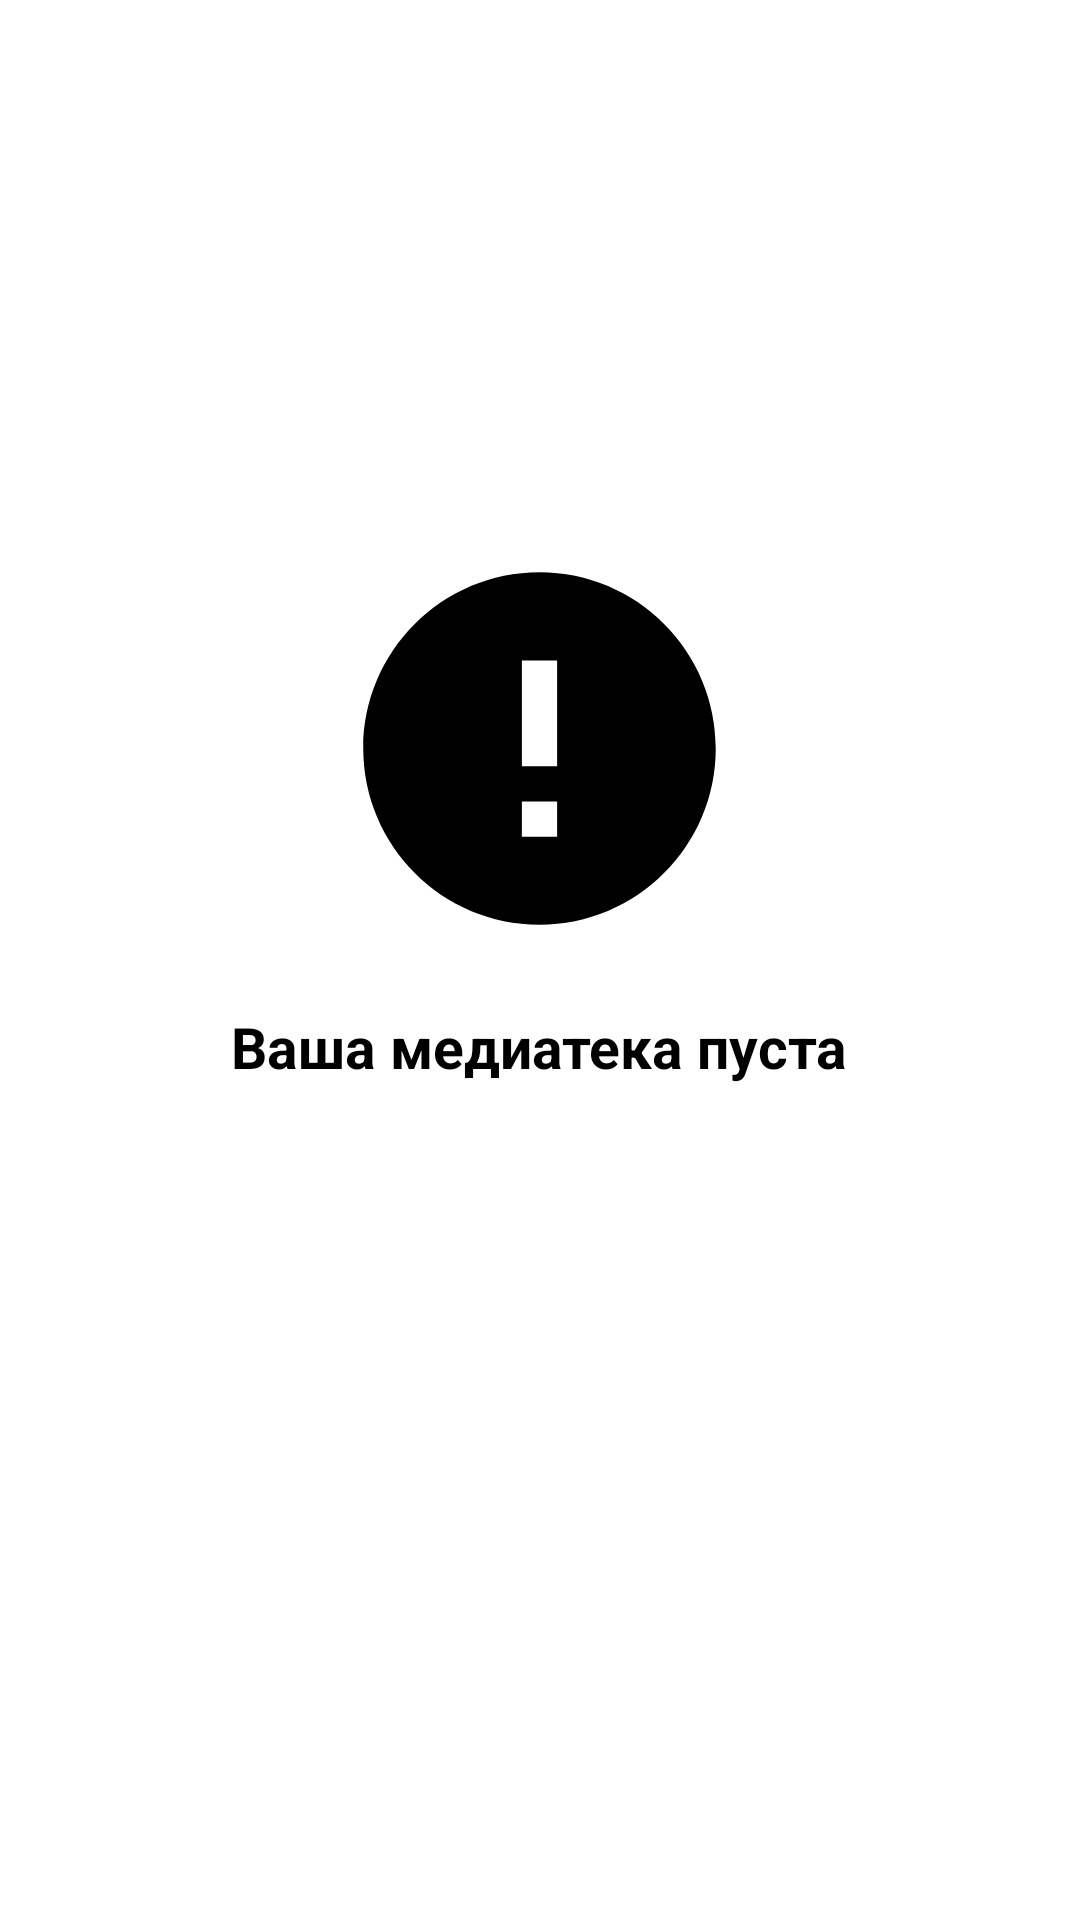

Named icons in this screenshot (1080px×1920px) and their bounding boxes, (x1, y1, x2, y2):
error: (363, 572, 716, 925)
